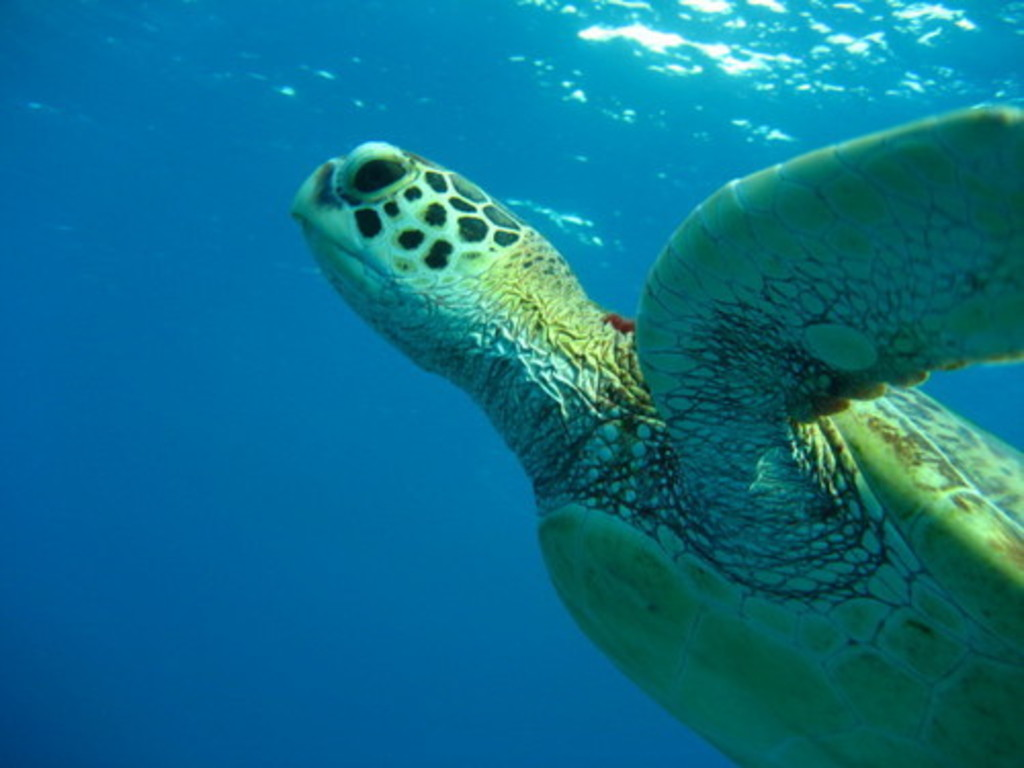Sea turtles: (290, 102, 1021, 765)
